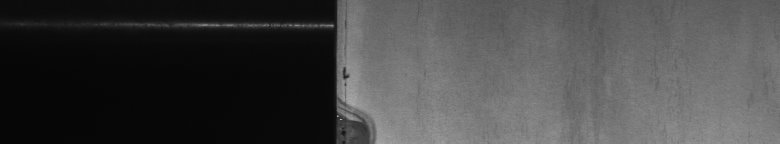hb: (344, 19, 382, 136)
